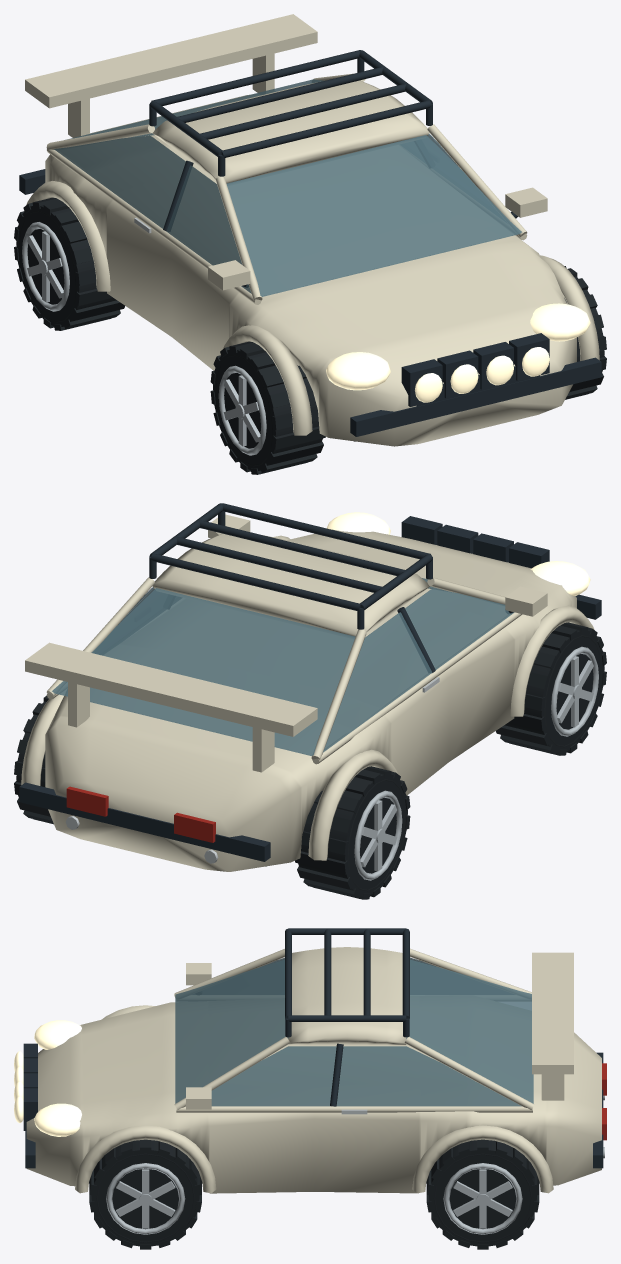
File: dune.glb
The picture shows the model from 3 angles, top to bottom: view 1: azimuth 30°, elevation 25°; view 2: azimuth 150°, elevation 25°; view 3: azimuth 270°, elevation 25°; orthographic projection. The views are drawn at different scales.
Parts seen in each view (by area): view 1: exterior-paint, windows, black-trim, tire-front-left, tire-rear-left, headlights, rim-front-left, rim-rear-left, tire-front-right; view 2: exterior-paint, windows, black-trim, tire-rear-left, tire-front-left, rim-rear-left, rim-front-left, headlights, taillights, tire-rear-right; view 3: exterior-paint, windows, tire-rear-right, tire-front-right, black-trim, headlights, rim-front-right, rim-rear-right.
Part boxes in pixels (x1,y1,x2,y2): exterior-paint: (25,14,599,446); windows: (54,79,521,296); black-trim: (19,50,601,441); tire-front-left: (210,341,325,474); tire-rear-left: (14,197,124,330); headlights: (326,303,590,402); rim-front-left: (218,365,266,455); rim-rear-left: (22,222,69,311); tire-front-right: (564,266,606,399); exterior-paint: (21,514,594,871); windows: (52,578,514,755); black-trim: (19,503,601,866); tire-rear-left: (295,766,410,899); tire-front-left: (496,622,606,755); rim-rear-left: (354,790,402,880); rim-front-left: (551,646,598,736); headlights: (326,512,590,595); taillights: (66,786,215,842); tire-rear-right: (14,695,53,824); exterior-paint: (26,947,601,1193); windows: (175,957,533,1106); tire-rear-right: (426,1139,539,1249); tire-front-right: (89,1139,201,1249); black-trim: (23,928,603,1183); headlights: (14,1020,81,1136); rim-front-right: (106,1163,185,1234); rim-rear-right: (443,1163,522,1234).
Size of the model in its own units: 2.09 by 1.43 by 3.69.
